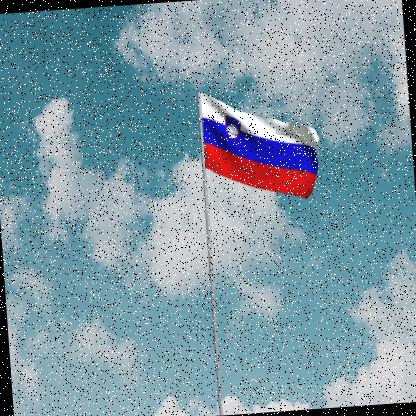si: (202, 86, 325, 209)
